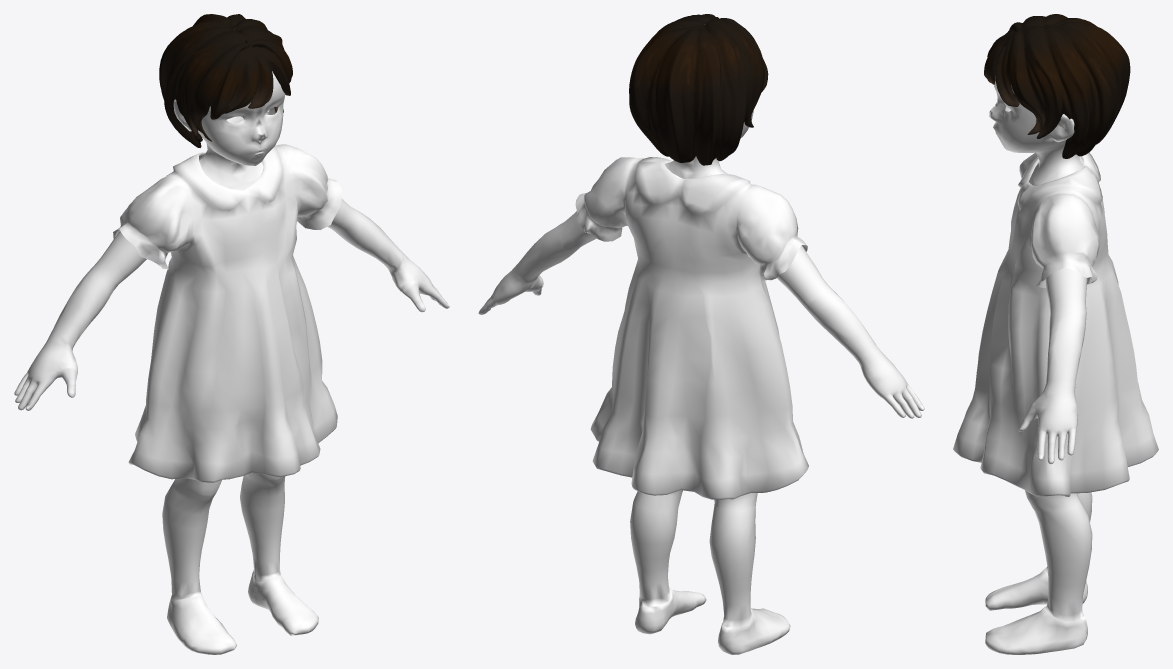
File: character_girl.fbx
3 views of the same model, side by side, from view 1: azimuth 30°, elevation 25°; view 2: azimuth 150°, elevation 25°; view 3: azimuth 270°, elevation 25° (orthographic). The views are drawn at different scales.
Visible parts, largest first — view 1: Character_girl; view 2: Character_girl; view 3: Character_girl.
Part boxes in pixels (<box>): Character_girl: <box>14,14,449,654</box>; Character_girl: <box>478,14,924,654</box>; Character_girl: <box>953,14,1158,654</box>.
Size of the model in its own units: 82.75 by 110 by 34.07.
